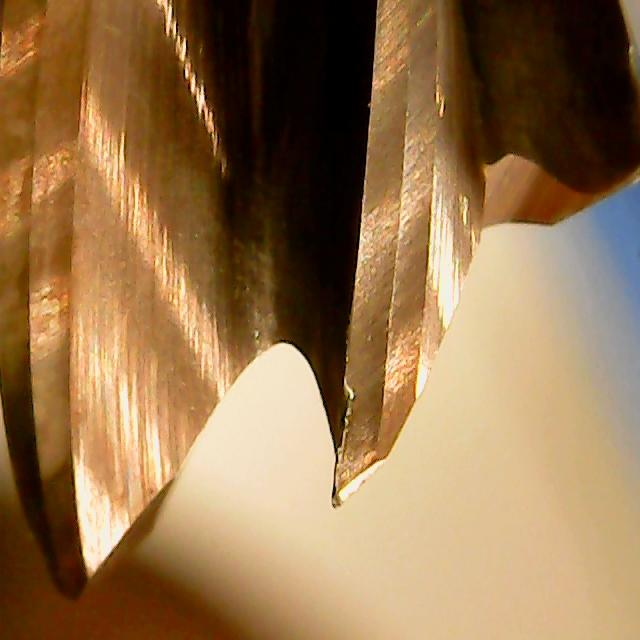Tool-wear-class-1: (319, 216, 448, 512)
